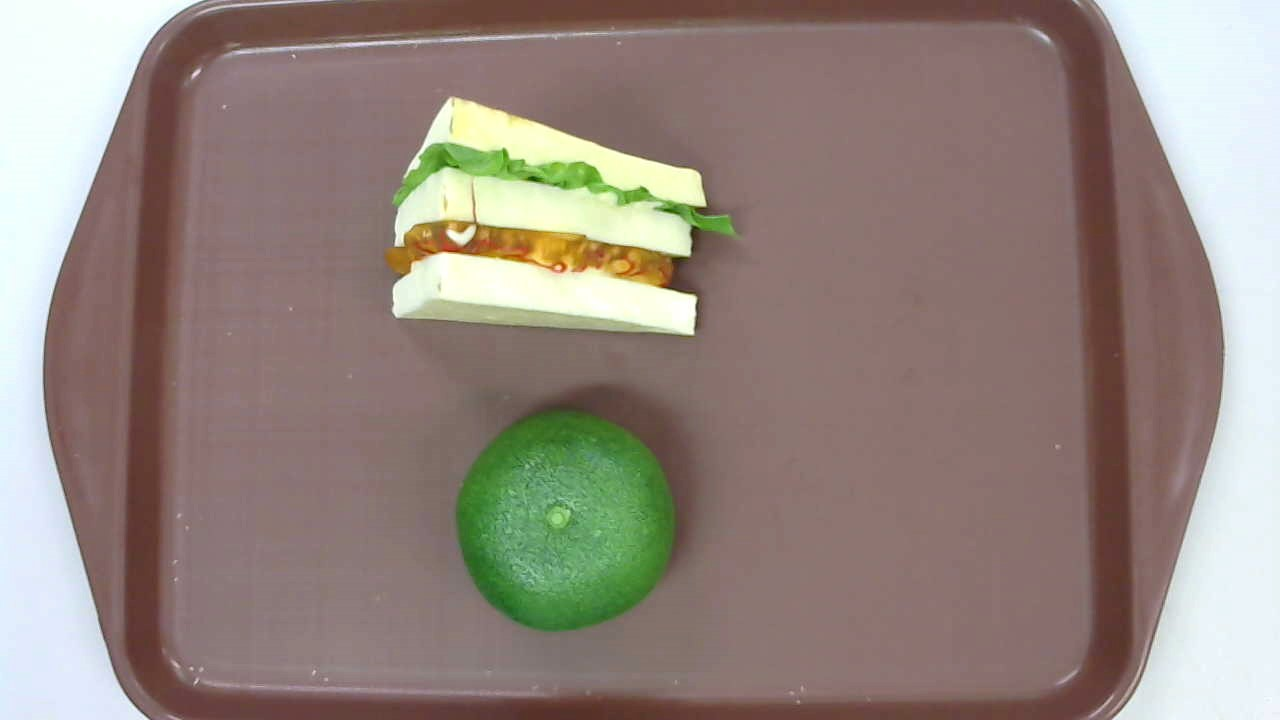green orange: (456, 410, 675, 630)
sandwich: (385, 95, 744, 338)
